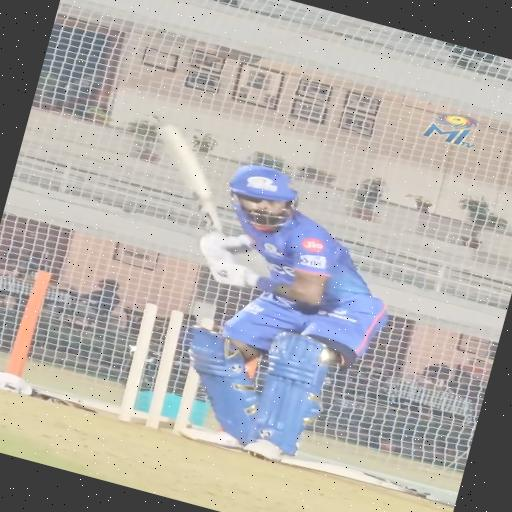Cricket bat: (156, 124, 221, 231)
